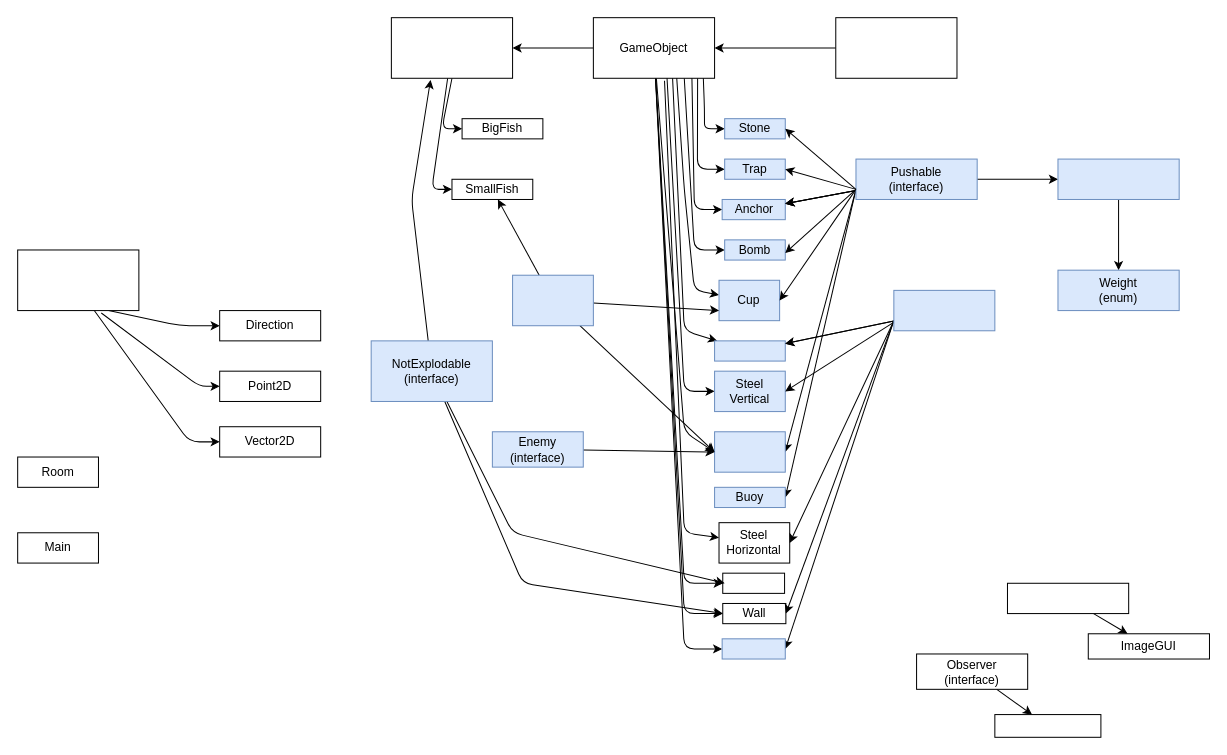
Some shapes in this 1227 by 755 pixel diagram are drawn without their labels. The shapes that lost their labels are listed below. From the top down, each one's box as (x1, y1, x2, y2) in pixels, then its label:
(390, 17, 513, 78): GameCharacter (Abstract class)
(835, 17, 957, 78): ImageTile (interface)
(1057, 158, 1179, 199): Gravity (interface)
(17, 249, 139, 311): Serializable (interface)
(512, 274, 593, 326): SmallObject (interface)
(893, 289, 995, 331): FixedObject (interface)
(714, 340, 785, 361): Trunk
(714, 431, 785, 472): Crab
(722, 572, 785, 593): Water
(1006, 582, 1129, 614): Observed
(721, 638, 785, 659): HoledWall
(994, 714, 1101, 737): GameEngine
